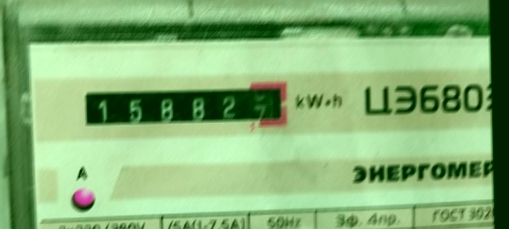1: (95, 96, 108, 122)
2: (219, 93, 236, 119)
5: (126, 96, 141, 123)
7: (250, 102, 266, 119)
8: (157, 96, 174, 121), (189, 95, 205, 120)
screen: (74, 76, 294, 138)
